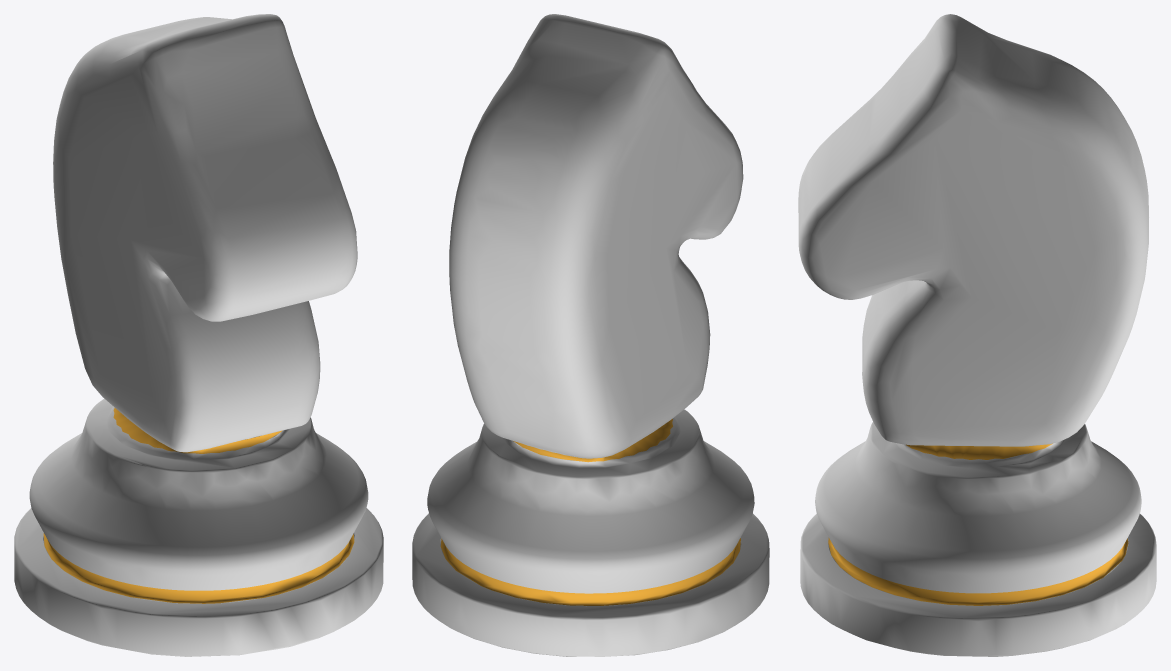
File: gercek6_n_w.glb
The picture shows the model from 3 angles, left to right: view 1: azimuth 30°, elevation 25°; view 2: azimuth 150°, elevation 25°; view 3: azimuth 270°, elevation 25°; orthographic projection. The views are drawn at different scales.
Visible parts, largest first — view 1: r_w_0, r_w_1; view 2: r_w_0, r_w_1; view 3: r_w_0, r_w_1.
Part boxes in pixels (x1,y1,x2,y2): r_w_0: (14,14,383,656); r_w_1: (43,408,354,603); r_w_0: (412,14,769,656); r_w_1: (440,419,740,605); r_w_0: (798,14,1156,656); r_w_1: (828,443,1128,605).
Size of the model in its own units: 0.5336 by 0.8993 by 0.5356.
